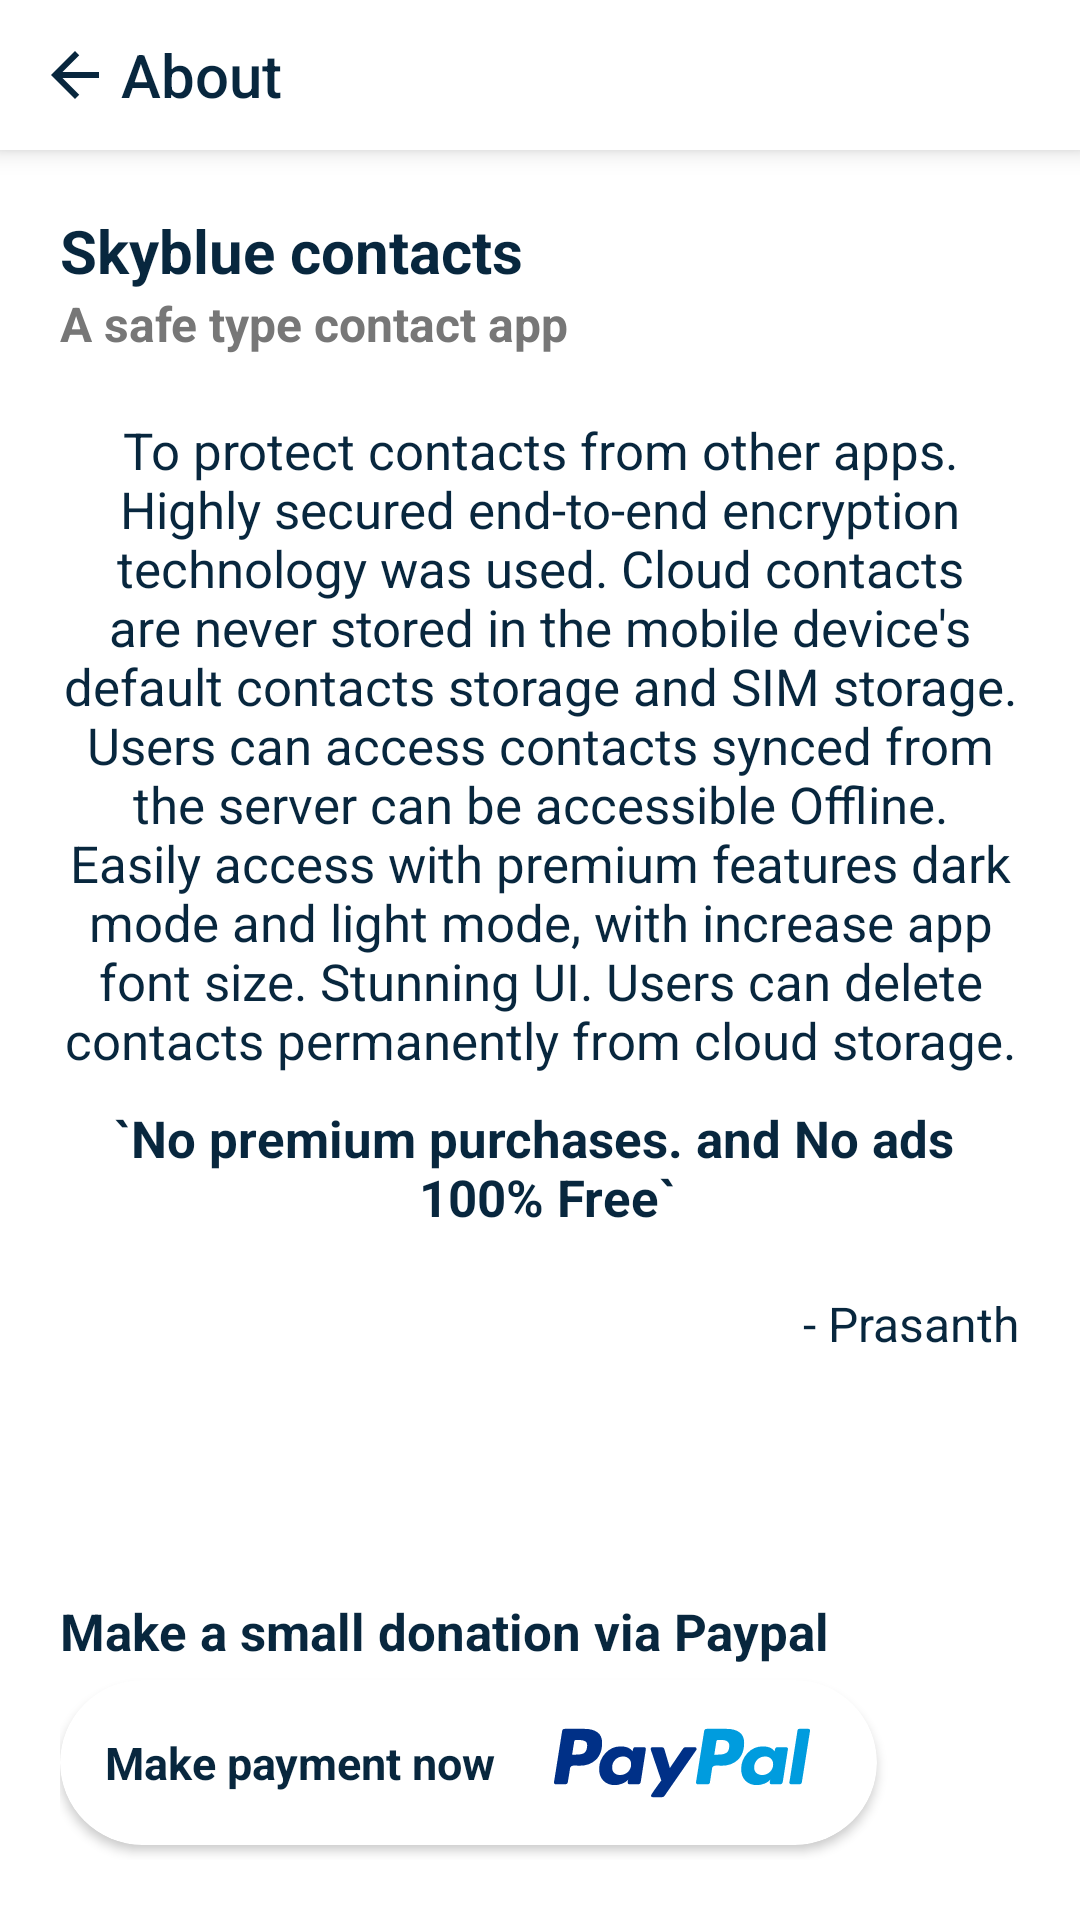

Locate icon controls on the screen. Image size 1080px×1920px, boxes as (x1, y1, x2, y2).
Back to previous screen: (51, 51, 99, 99)
